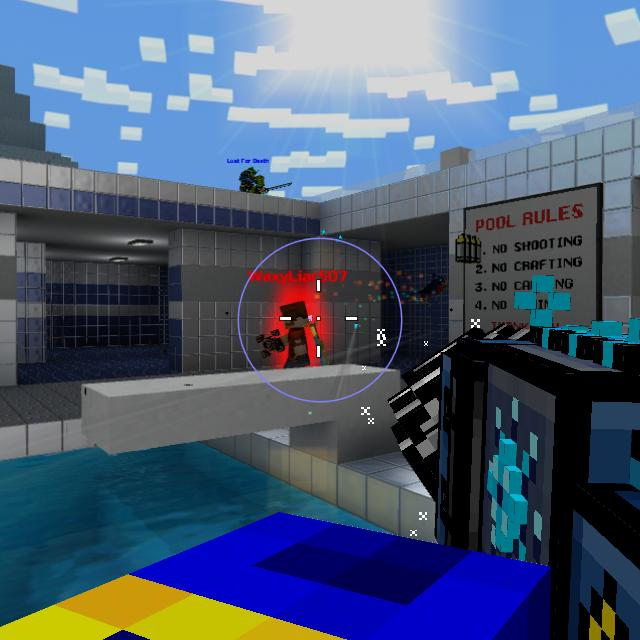Enemy: (268, 300, 317, 367)
